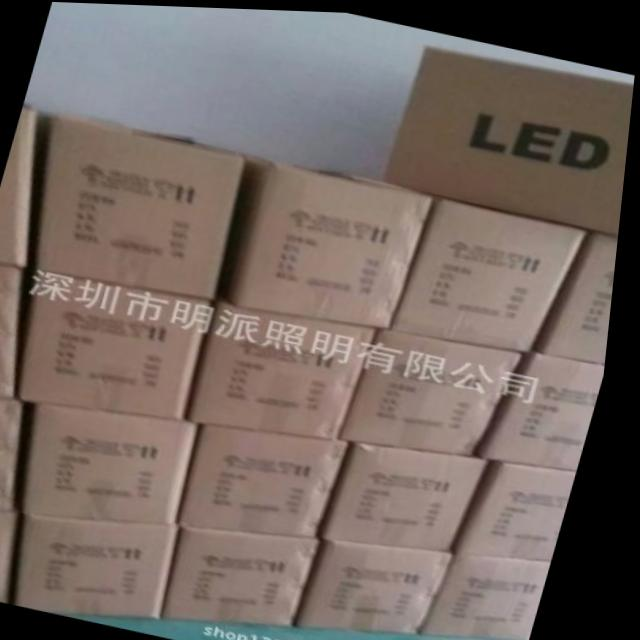box: (383, 41, 635, 229), (34, 112, 248, 299), (223, 151, 438, 325), (394, 191, 593, 348), (192, 282, 387, 436), (28, 269, 217, 418), (347, 325, 531, 451), (34, 403, 206, 522), (191, 422, 357, 537), (330, 438, 497, 547), (28, 516, 190, 617), (173, 523, 333, 624), (308, 537, 465, 633), (486, 346, 611, 466), (463, 459, 584, 558), (535, 227, 623, 360), (435, 549, 560, 637), (0, 106, 41, 268), (0, 261, 33, 398), (0, 398, 33, 511), (0, 511, 31, 601)
